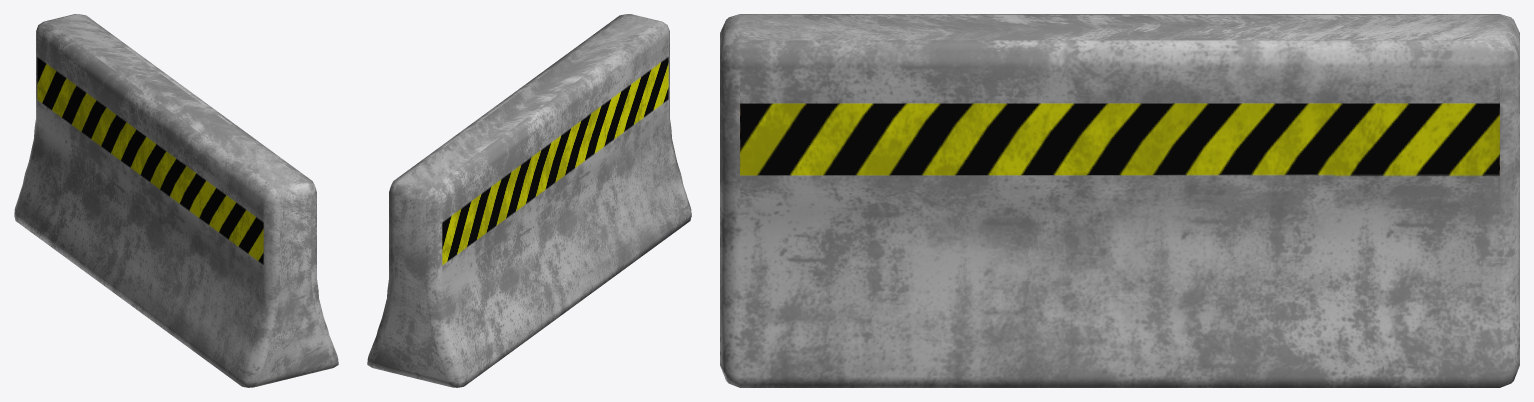
File: road_barrier.fbx
3 views of the same model, side by side, from view 1: azimuth 30°, elevation 25°; view 2: azimuth 150°, elevation 25°; view 3: azimuth 270°, elevation 25° (orthographic). The views are drawn at different scales.
Visible parts, largest first — view 1: Circle; view 2: Circle; view 3: Circle.
Boxes of the visible parts, left/top/right/bottom form: Circle: left=14, top=14, right=338, bottom=387; Circle: left=367, top=14, right=691, bottom=387; Circle: left=720, top=14, right=1519, bottom=387.
Size of the model in its own units: 92.98 by 180 by 400.
Materials: 1 (1 with a texture image).
